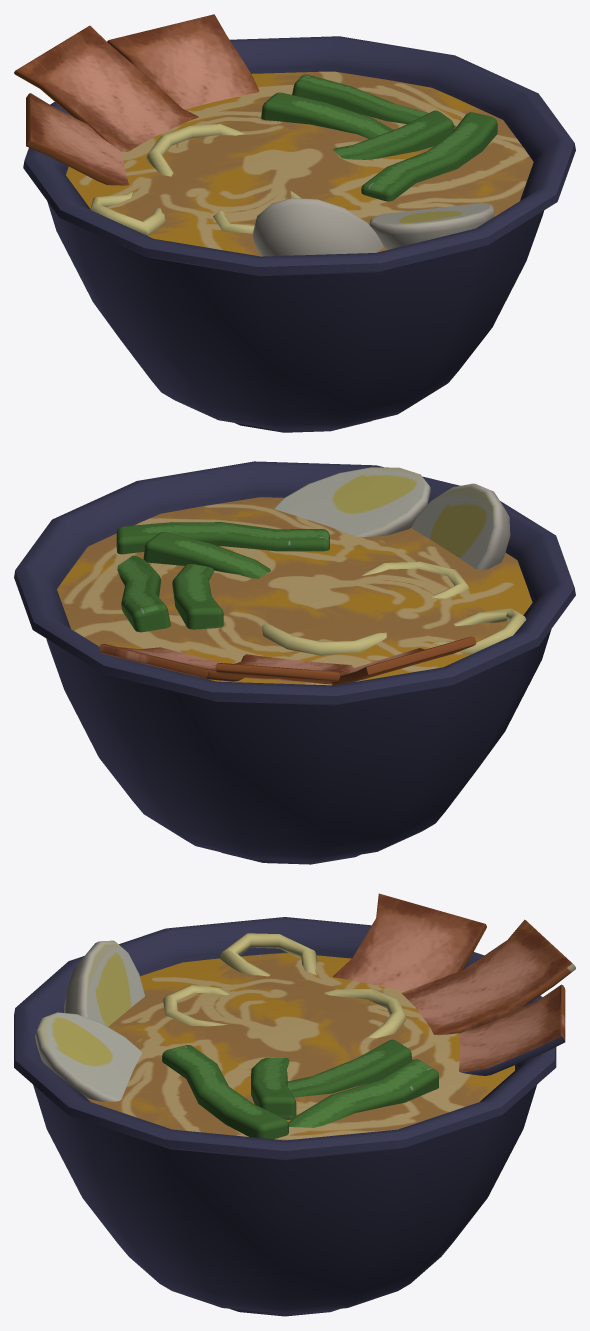
Rendered from Ramen_geo.fbx.
3 renders of one model, top to bottom at view 1: azimuth 30°, elevation 25°; view 2: azimuth 150°, elevation 25°; view 3: azimuth 270°, elevation 25°, orthographic.
Visible parts, largest first — view 1: Ramen; view 2: Ramen; view 3: Ramen.
Boxes of the visible parts, x1,y1,x2,y2 form: Ramen: (14,14,575,432); Ramen: (14,461,575,864); Ramen: (14,893,575,1316).
Size of the model in its own units: 11.51 by 6.45 by 11.63.
